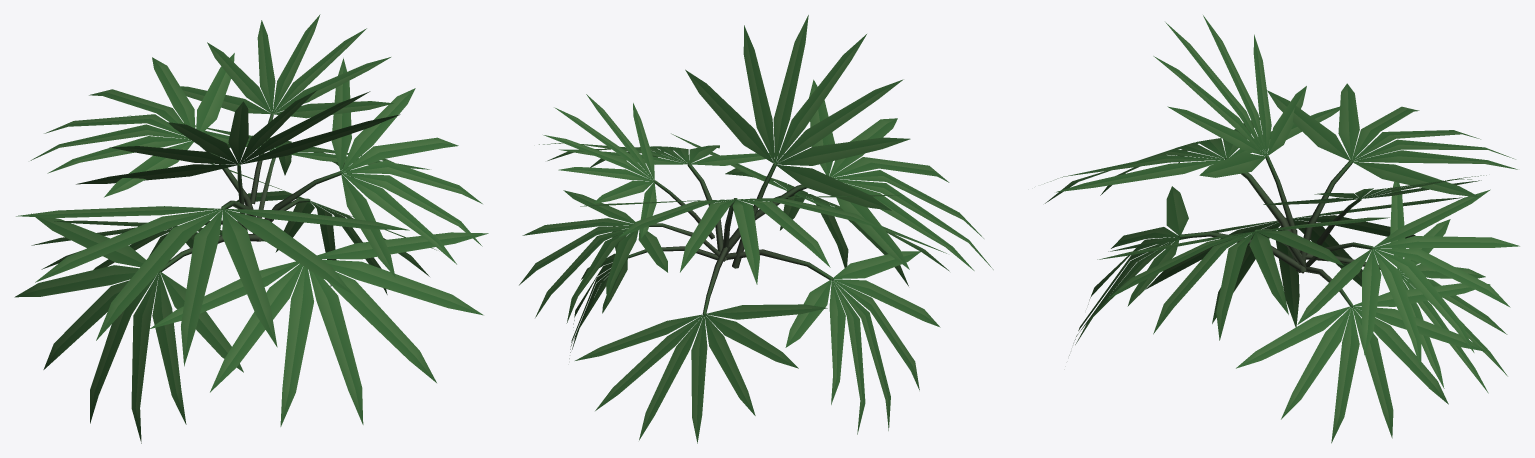
The picture shows the model from 3 angles, left to right: view 1: azimuth 30°, elevation 25°; view 2: azimuth 150°, elevation 25°; view 3: azimuth 270°, elevation 25°; orthographic projection. The views are drawn at different scales.
Parts seen in each view (by area): view 1: plant.006; view 2: plant.006; view 3: plant.006.
Boxes of the visible parts, left/top/right/bottom form: plant.006: left=14, top=14, right=488, bottom=443; plant.006: left=519, top=15, right=993, bottom=443; plant.006: left=1044, top=15, right=1519, bottom=443.
Size of the model in its own units: 0.5 by 0.3811 by 0.49.
